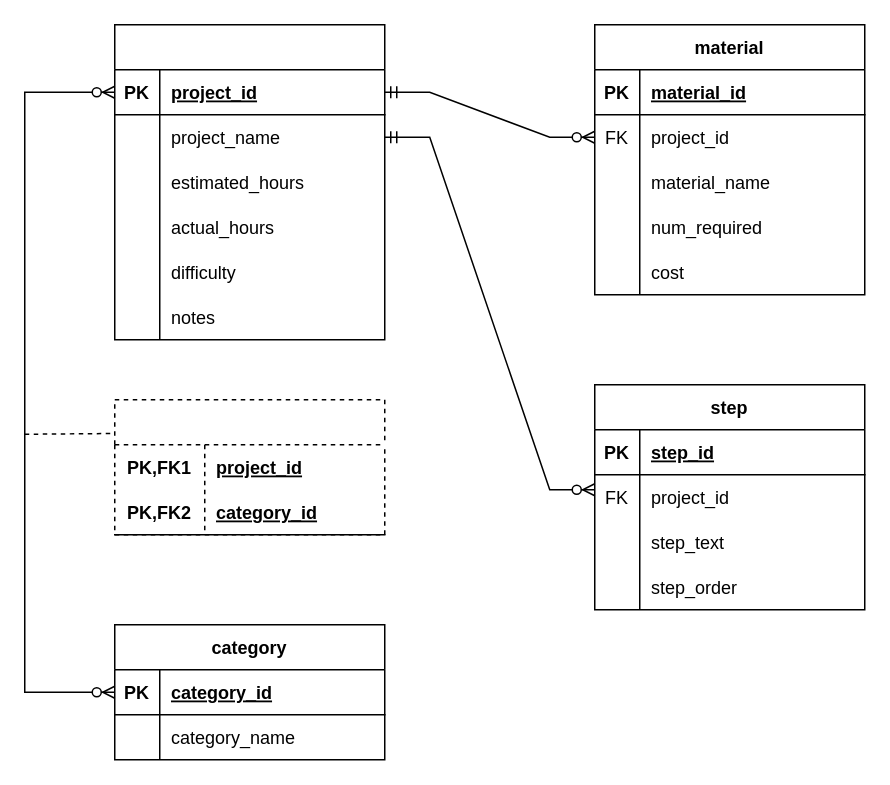
Image size: 890x785. Some labels were removed from this diagram. The shapes that lost their labels are listed below. From the top down, each one's box as (x1, y1, x2, y2) in pixels, then its label:
(113, 23, 385, 340): proejct
(113, 398, 385, 535): project_category
